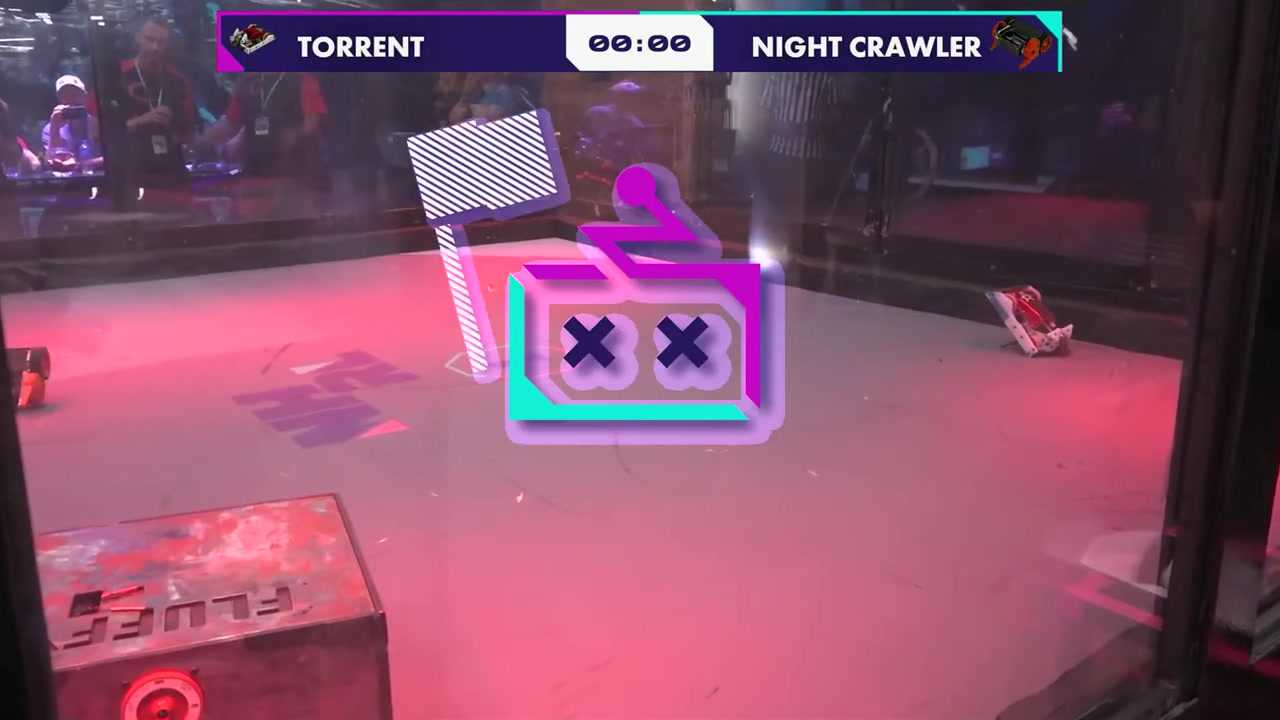combatbot: (983, 284, 1077, 360), (5, 342, 53, 415)
housebot: (35, 490, 385, 719)
